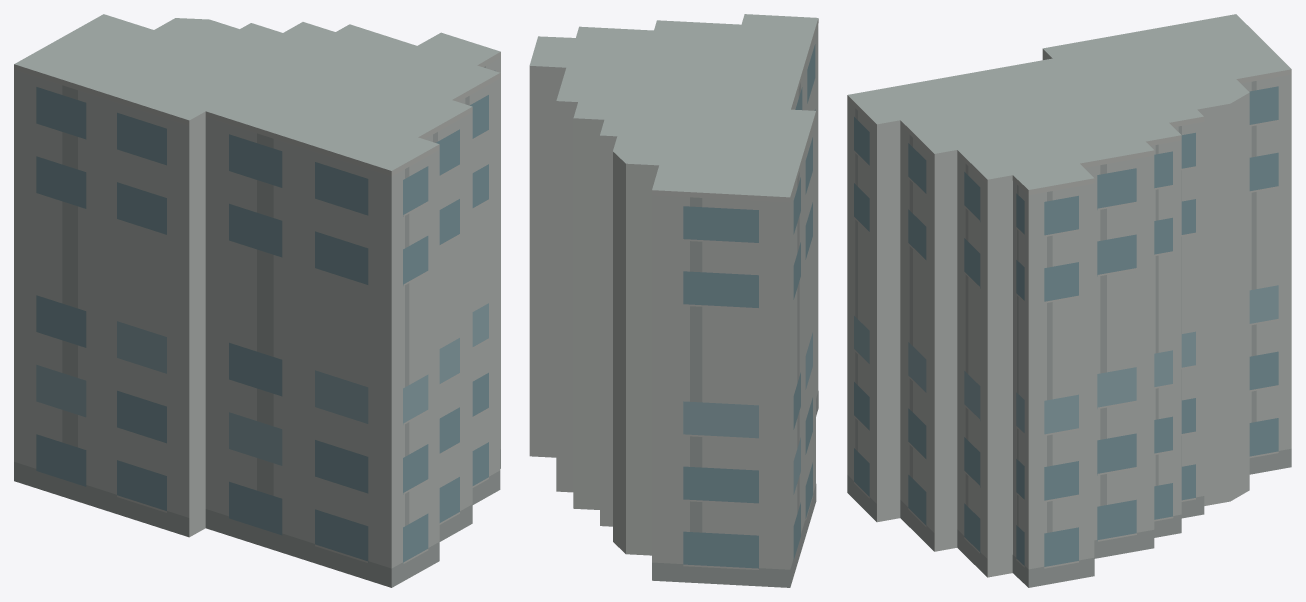
The model's file is survey-upis-32772149.glb.
3 renders of one model, left to right at view 1: azimuth 30°, elevation 25°; view 2: azimuth 150°, elevation 25°; view 3: azimuth 270°, elevation 25°, orthographic. The views are drawn at different scales.
Visible parts, largest first — view 1: survey-upis-32772149.tmp; view 2: survey-upis-32772149.tmp; view 3: survey-upis-32772149.tmp.
Boxes of the visible parts, x1,y1,x2,y2 form: survey-upis-32772149.tmp: (14,14,500,587); survey-upis-32772149.tmp: (529,14,818,587); survey-upis-32772149.tmp: (847,14,1291,587).
Size of the model in its own units: 17.37 by 18.3 by 18.53.
